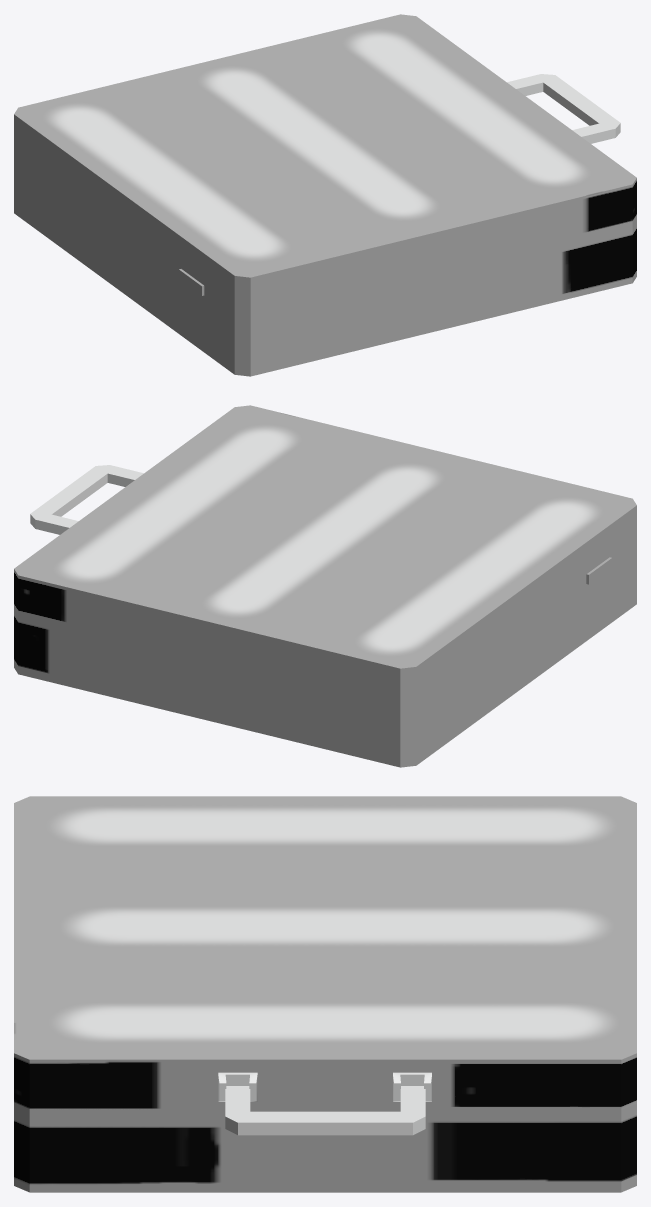
Rendered from Case_anm.fbx.
The picture shows the model from 3 angles, top to bottom: view 1: azimuth 30°, elevation 25°; view 2: azimuth 150°, elevation 25°; view 3: azimuth 270°, elevation 25°; orthographic projection. The views are drawn at different scales.
Visible parts, largest first — view 1: case_2, case_1; view 2: case_2, case_1; view 3: case_2, case_1.
Boxes of the visible parts, x1,y1,x2,y2 form: case_2: (14, 14, 636, 314); case_1: (14, 151, 636, 376); case_2: (14, 405, 636, 705); case_1: (14, 542, 636, 767); case_2: (14, 796, 636, 1135); case_1: (14, 1102, 636, 1192).
Bounding box in the file's own units: 11.62 × 2.35 × 10.
1 material, 1 textured.
